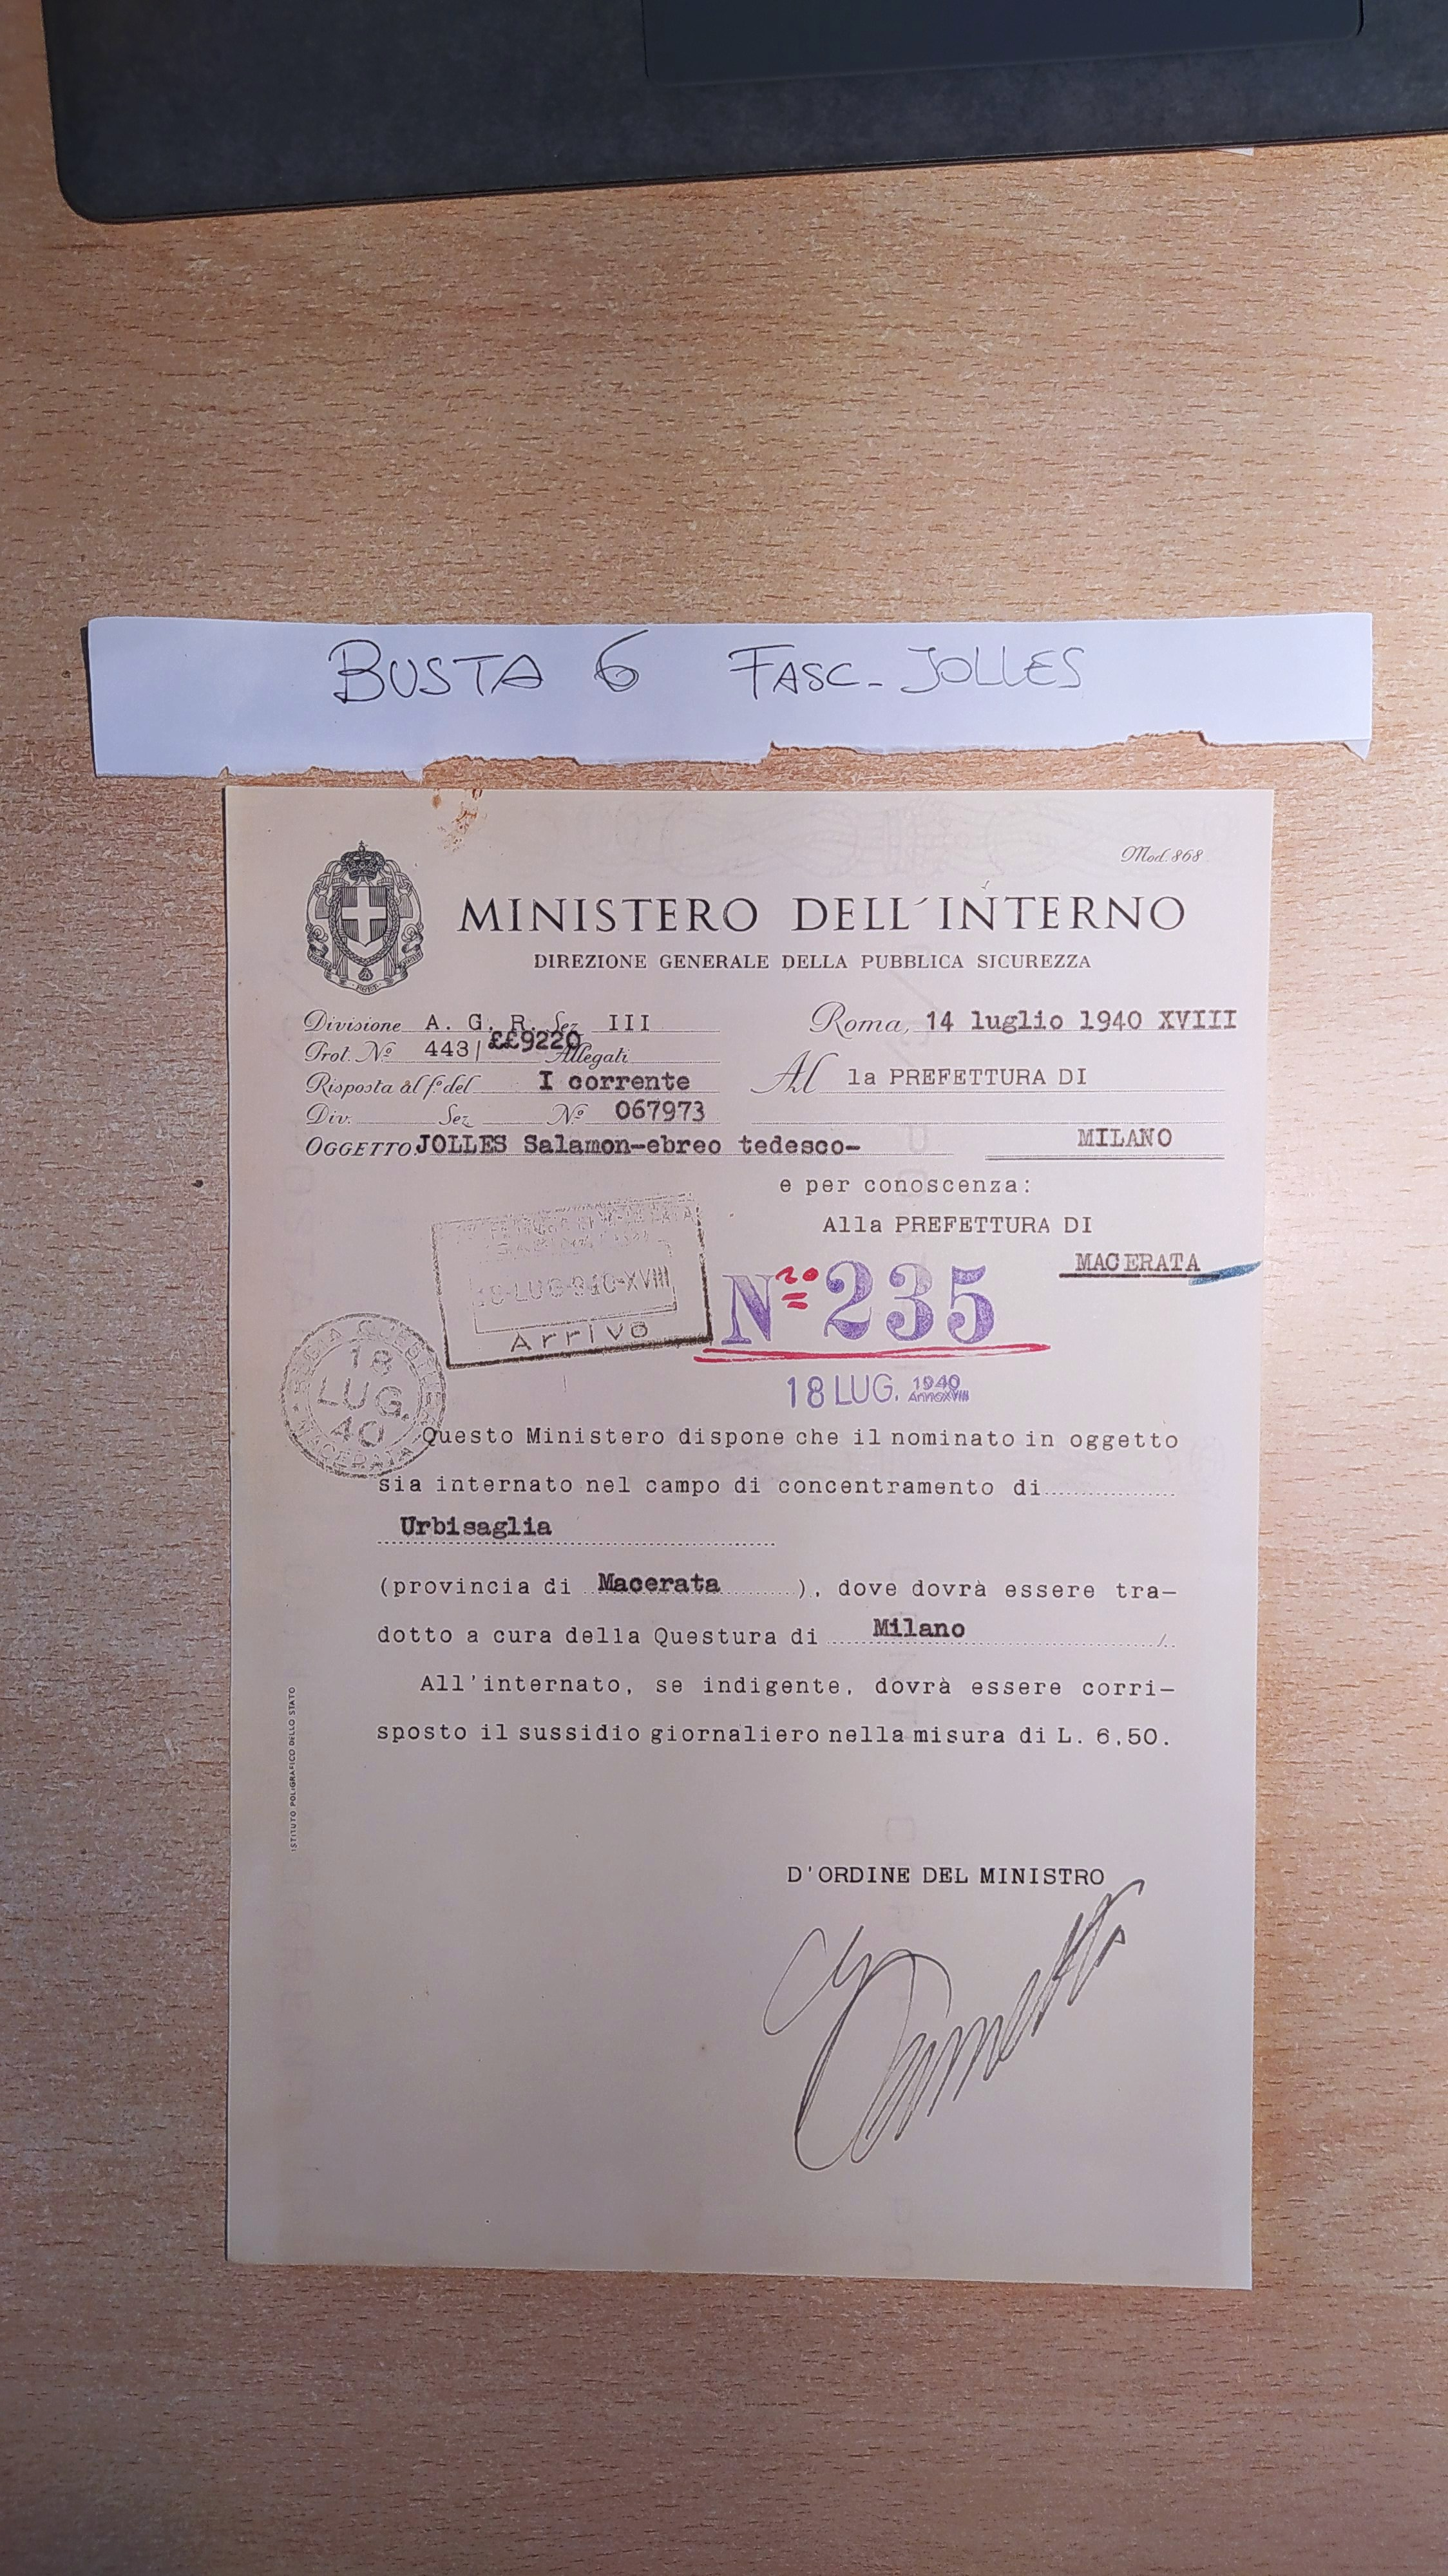stamp: (692, 1254, 1057, 1412), (425, 1191, 719, 1369), (278, 1311, 448, 1479)
